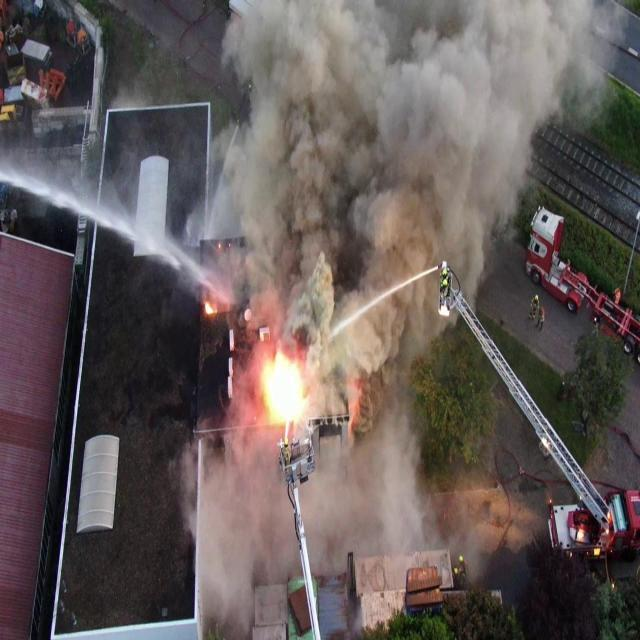Fire: (260, 350, 310, 427), (204, 302, 213, 314), (218, 243, 220, 248), (215, 310, 217, 312)
Smoke: (183, 0, 625, 632)
